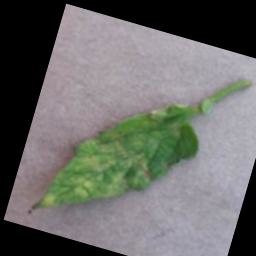Leaf_Mold: (32, 121, 149, 235)
